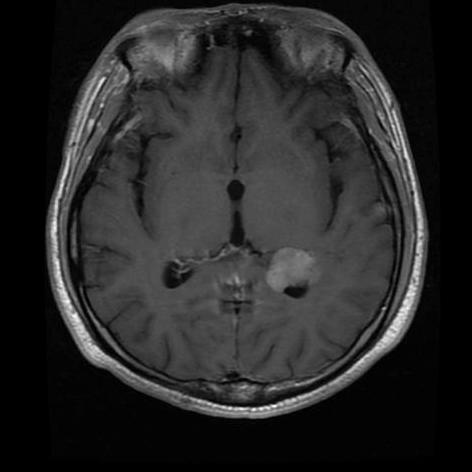Tumour-Meningioma: (254, 230, 345, 319)
